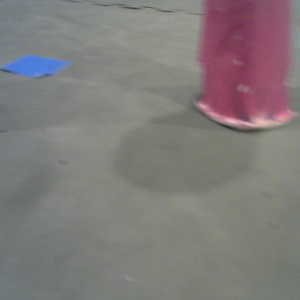right: (194, 1, 300, 131)
